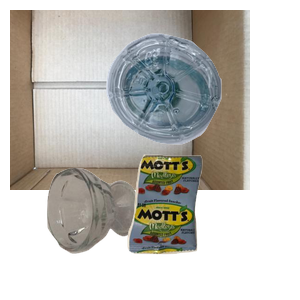cardboard: (10, 10, 250, 190)
glass: (44, 165, 178, 300)
plastic: (104, 31, 300, 168)
trash: (125, 152, 300, 300)
